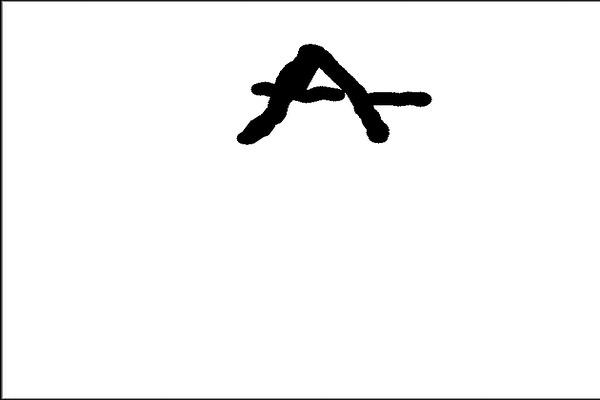A: (227, 37, 402, 153)
